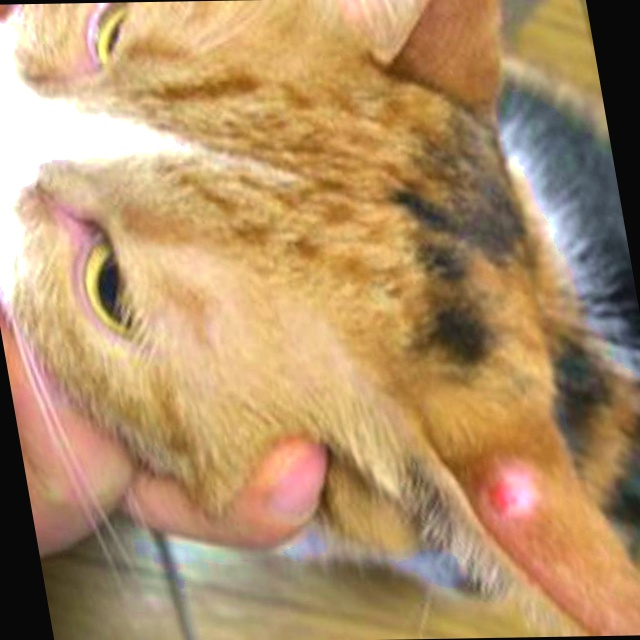lump_and_bump: (477, 466, 546, 520)
